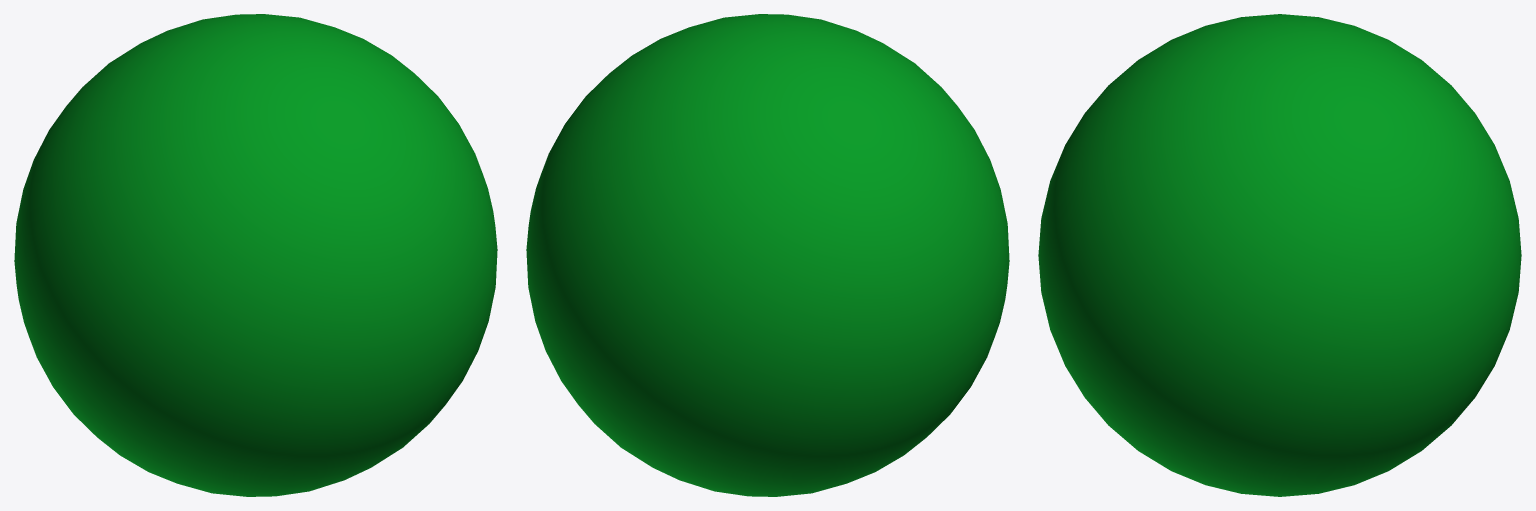
File: slime.glb
The picture shows the model from 3 angles, left to right: view 1: azimuth 30°, elevation 25°; view 2: azimuth 150°, elevation 25°; view 3: azimuth 270°, elevation 25°; orthographic projection.
Visible parts, largest first — view 1: Icosphere; view 2: Icosphere; view 3: Icosphere.
Boxes of the visible parts, x1,y1,x2,y2 form: Icosphere: (14,14,497,496); Icosphere: (526,14,1009,496); Icosphere: (1038,14,1521,496).
Bounding box in the file's own units: 0.1925 × 0.1925 × 0.1925.
